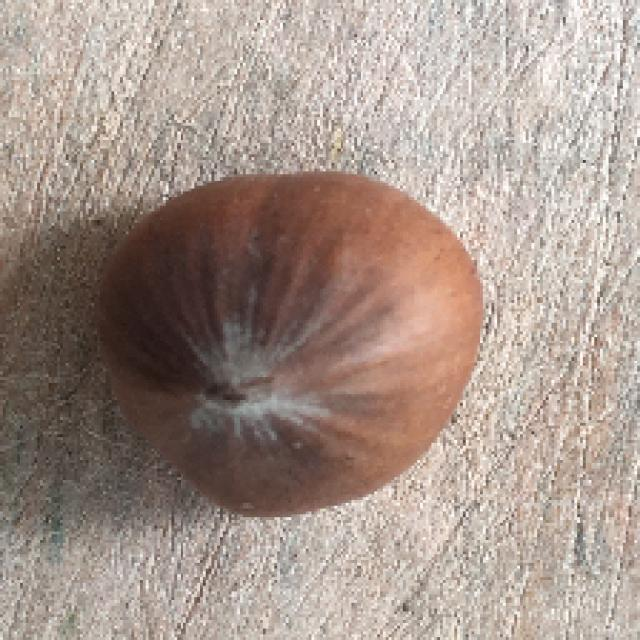DamagedHazelnut: (95, 177, 481, 519)
